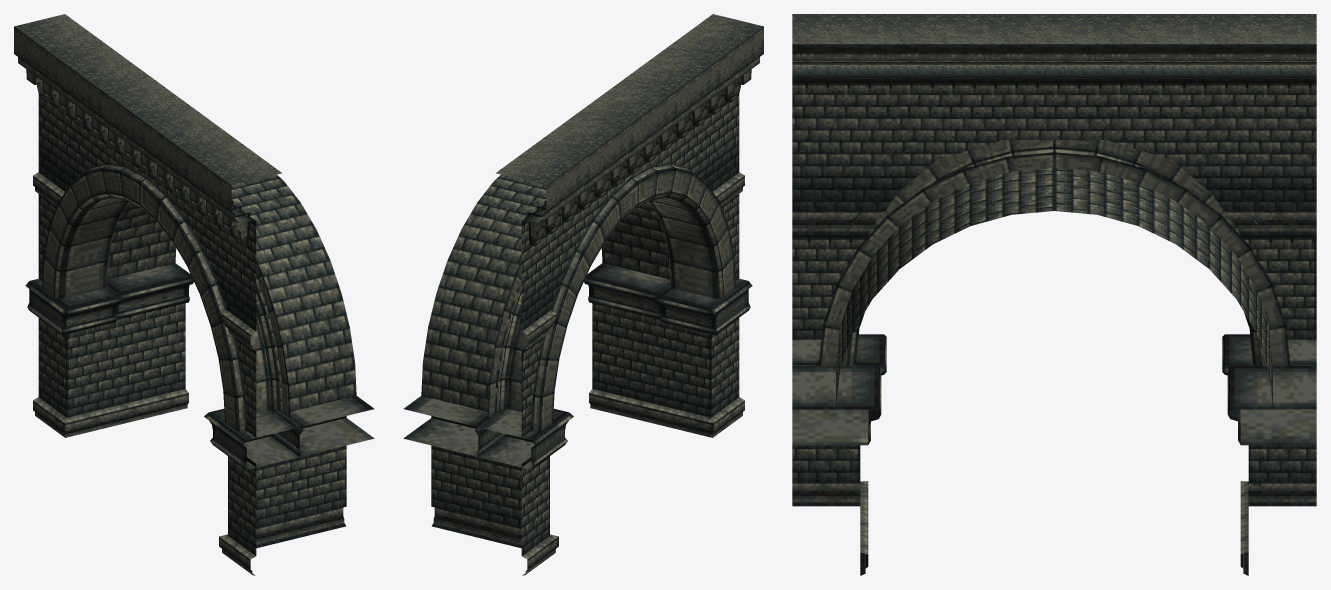
Rendered from EnvBdgMD_Castle_Raimei_A_Bridge_A_10W_Start_A.FBX.
The picture shows the model from 3 angles, left to right: view 1: azimuth 30°, elevation 25°; view 2: azimuth 150°, elevation 25°; view 3: azimuth 270°, elevation 25°; orthographic projection. The views are drawn at different scales.
Visible parts, largest first — view 1: EnvBdgMD_Castle_Raimei_A_Bridge_A_10W_Start_A; view 2: EnvBdgMD_Castle_Raimei_A_Bridge_A_10W_Start_A; view 3: EnvBdgMD_Castle_Raimei_A_Bridge_A_10W_Start_A.
Part boxes in pixels (x1,y1,x2,y2): EnvBdgMD_Castle_Raimei_A_Bridge_A_10W_Start_A: (14, 14, 374, 575); EnvBdgMD_Castle_Raimei_A_Bridge_A_10W_Start_A: (403, 14, 763, 575); EnvBdgMD_Castle_Raimei_A_Bridge_A_10W_Start_A: (792, 14, 1316, 575).
Size of the model in its own units: 380 by 1005 by 1000.
